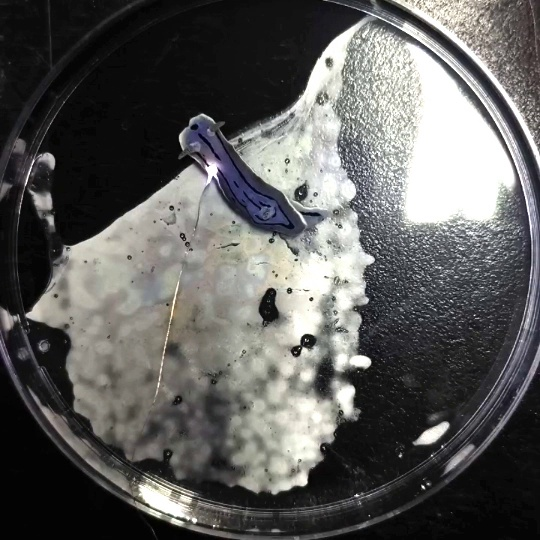sea-slug: (98, 97, 293, 226)
